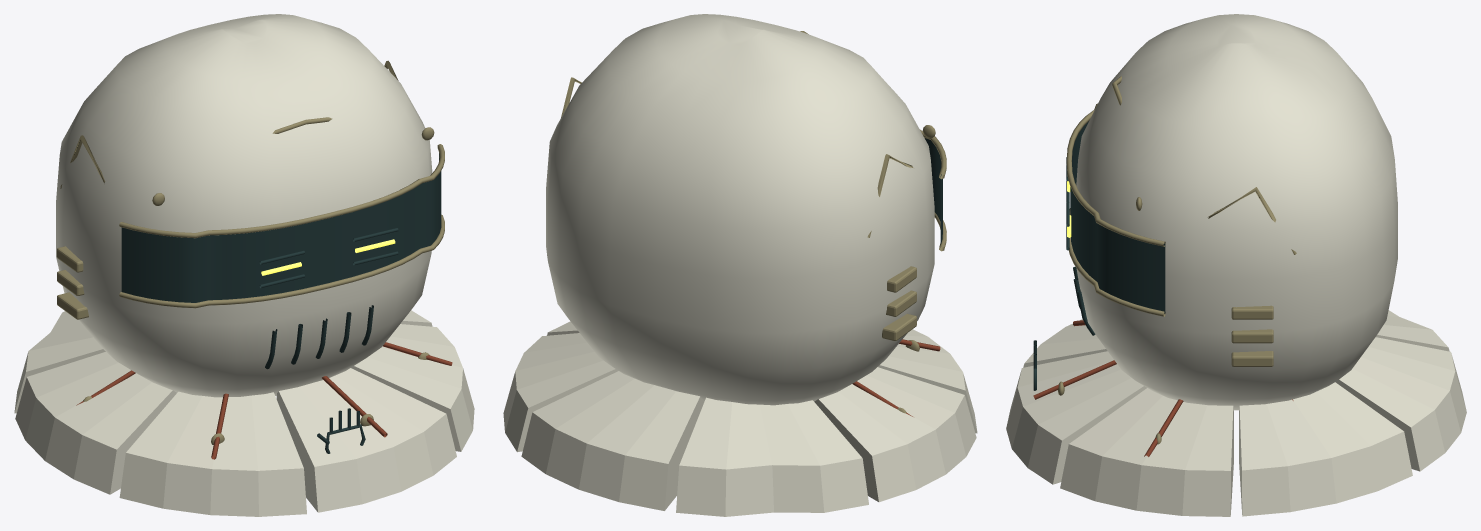
Rendered from keeper-head.glb.
3 views of the same model, side by side, from view 1: azimuth 30°, elevation 25°; view 2: azimuth 150°, elevation 25°; view 3: azimuth 270°, elevation 25° (orthographic). The views are drawn at different scales.
Visible parts, largest first — view 1: keeper • weathered porcelain, keeper • graphite visor, keeper • patinated metal, keeper • rust seal; view 2: keeper • weathered porcelain, keeper • patinated metal, keeper • graphite visor; view 3: keeper • weathered porcelain, keeper • graphite visor, keeper • patinated metal, keeper • rust seal.
Boxes of the visible parts, box(x1,y1,x2,y2) form: keeper • weathered porcelain: box(14, 14, 474, 516); keeper • graphite visor: box(121, 153, 441, 453); keeper • patinated metal: box(57, 60, 444, 444); keeper • rust seal: box(76, 342, 452, 459); keeper • weathered porcelain: box(503, 14, 977, 516); keeper • patinated metal: box(561, 31, 946, 413); keeper • graphite visor: box(924, 138, 942, 247); keeper • weathered porcelain: box(1006, 14, 1466, 516); keeper • graphite visor: box(1033, 121, 1165, 390); keeper • patinated metal: box(1058, 76, 1296, 444); keeper • rust seal: box(1033, 320, 1293, 456).
Bounding box in the file's own units: 0.7099 × 0.67 × 0.7099.
